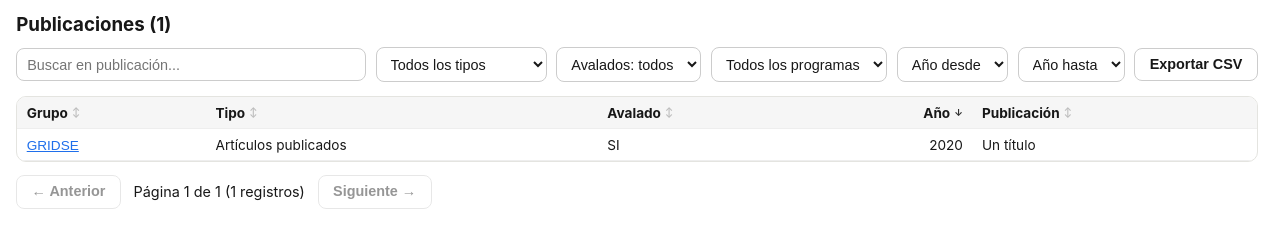
Test case: al filtrar por año se advierte que quedan fuera las publicaciones sin año
This screenshot has width=1275, height=242.
Check: the text "Un título" is shown, box [972, 129, 1257, 160]
Select "2020" in the dropdown titled "Año desde" at [952, 65], box [897, 47, 1008, 82]
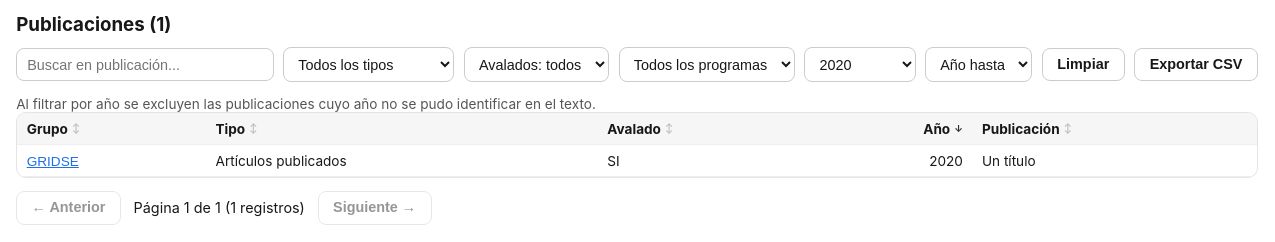
Check: the text "no se pudo identificar" is shown, box [16, 96, 596, 112]
